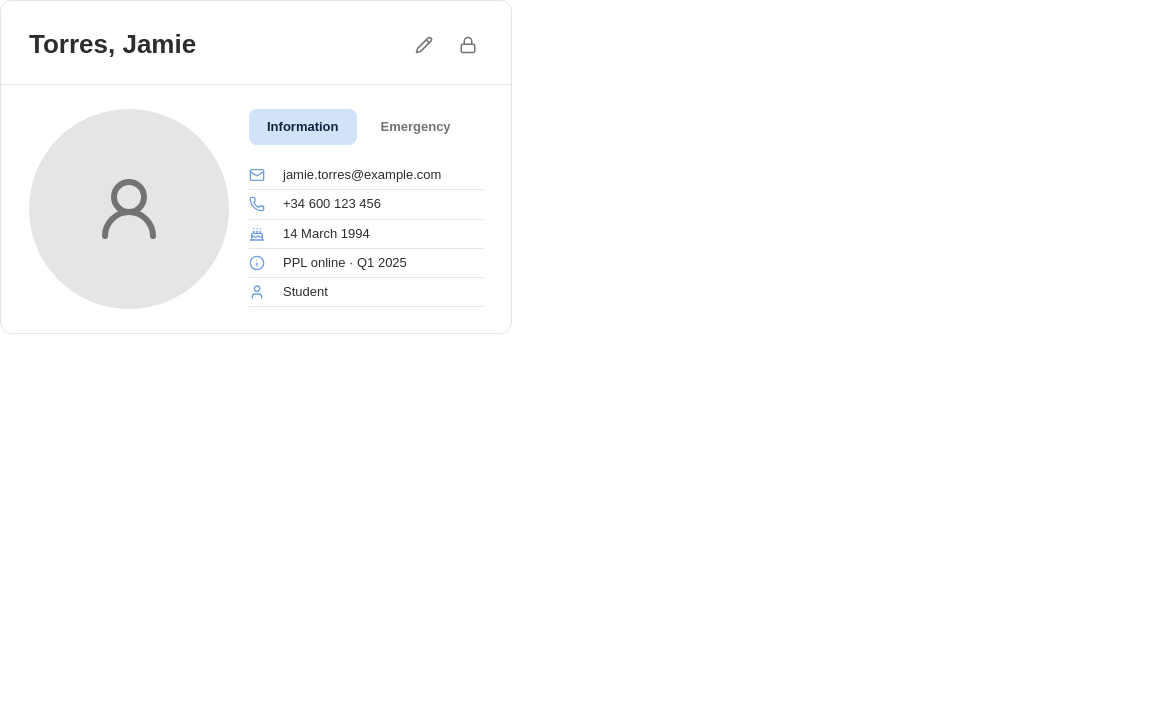
Test case: ProfileCardContainer › saves the edited contact via PUT and updates the displayed card
Click the button named "Edit profile" at (424, 44), box [409, 30, 439, 60]
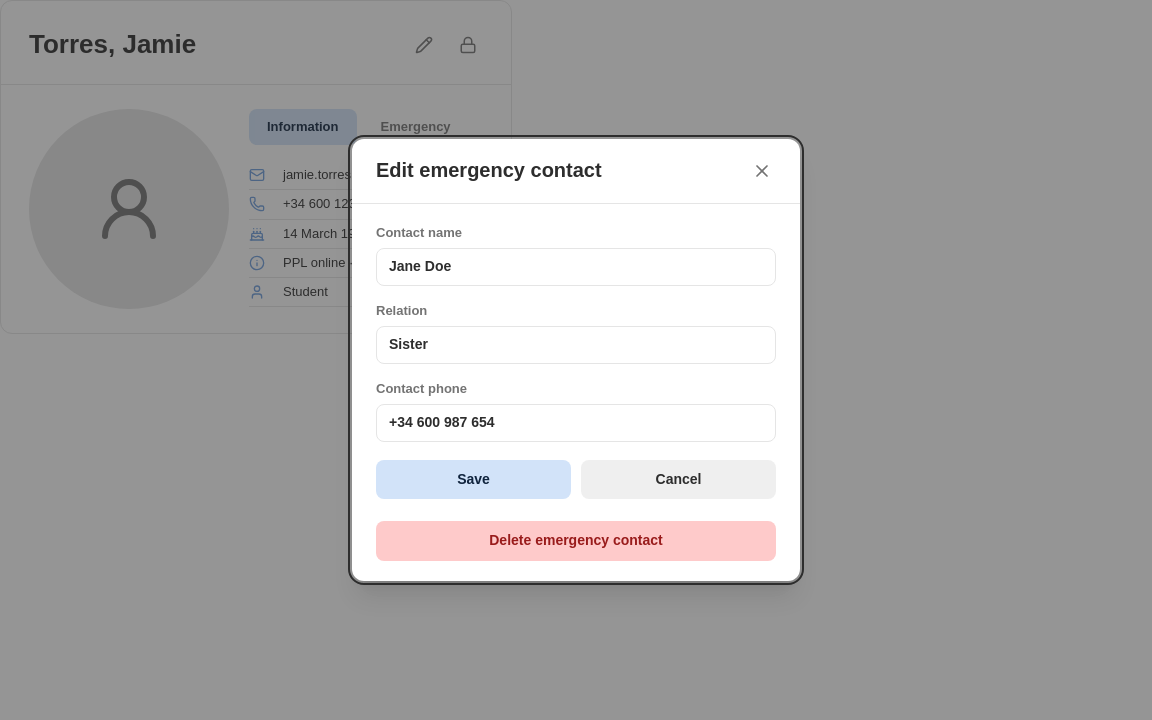
Replace the text in the field labelled "Contact name" with "John Smith" at (576, 267), box [376, 248, 776, 286]
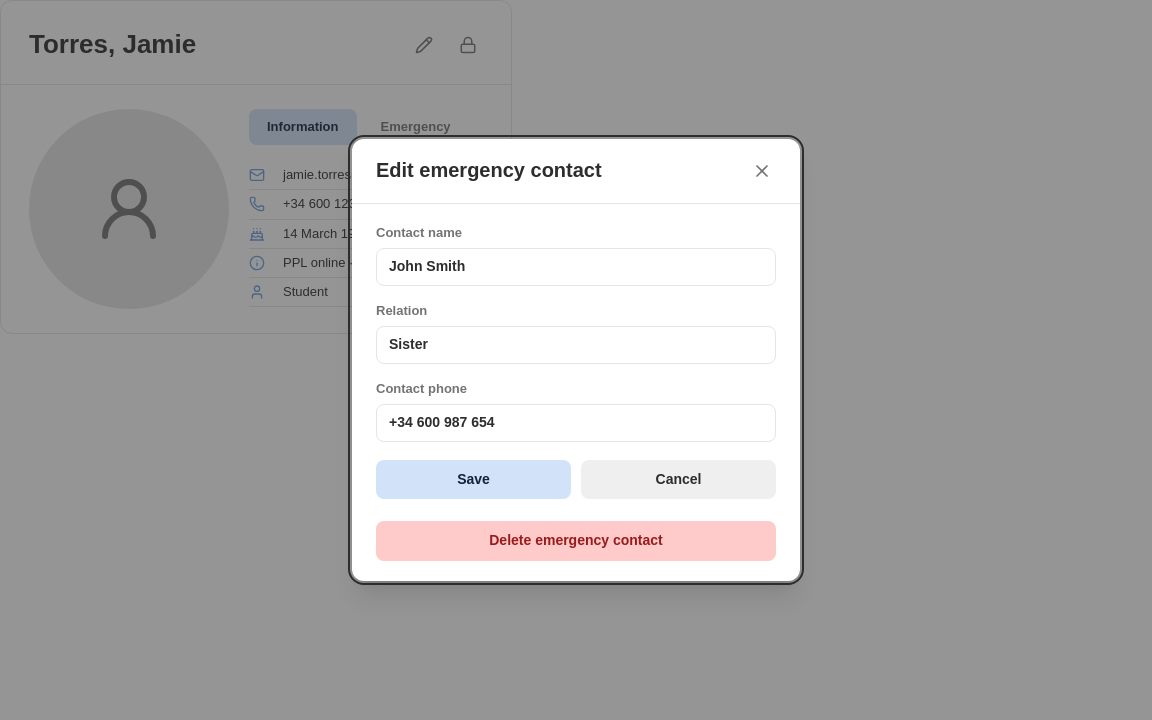
Click the button "Save" at (474, 479), box [376, 460, 571, 499]
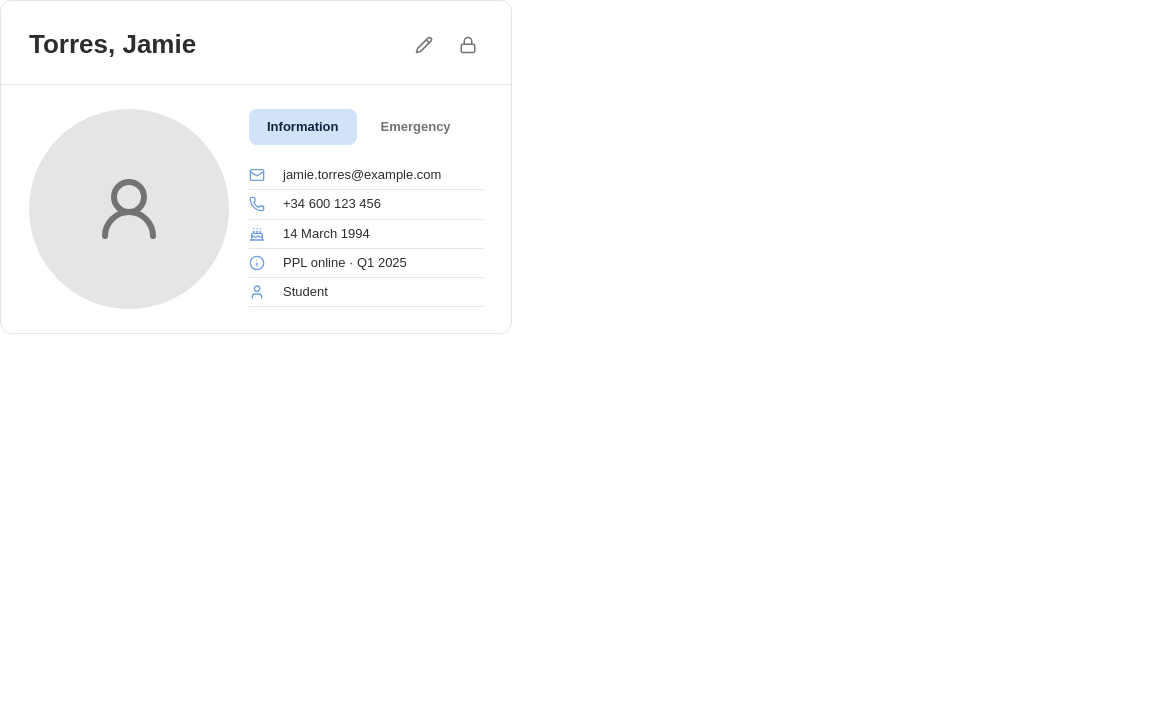
Expected: the dialog is gone
Click the tab "Emergency" at (416, 127), box [362, 109, 469, 145]
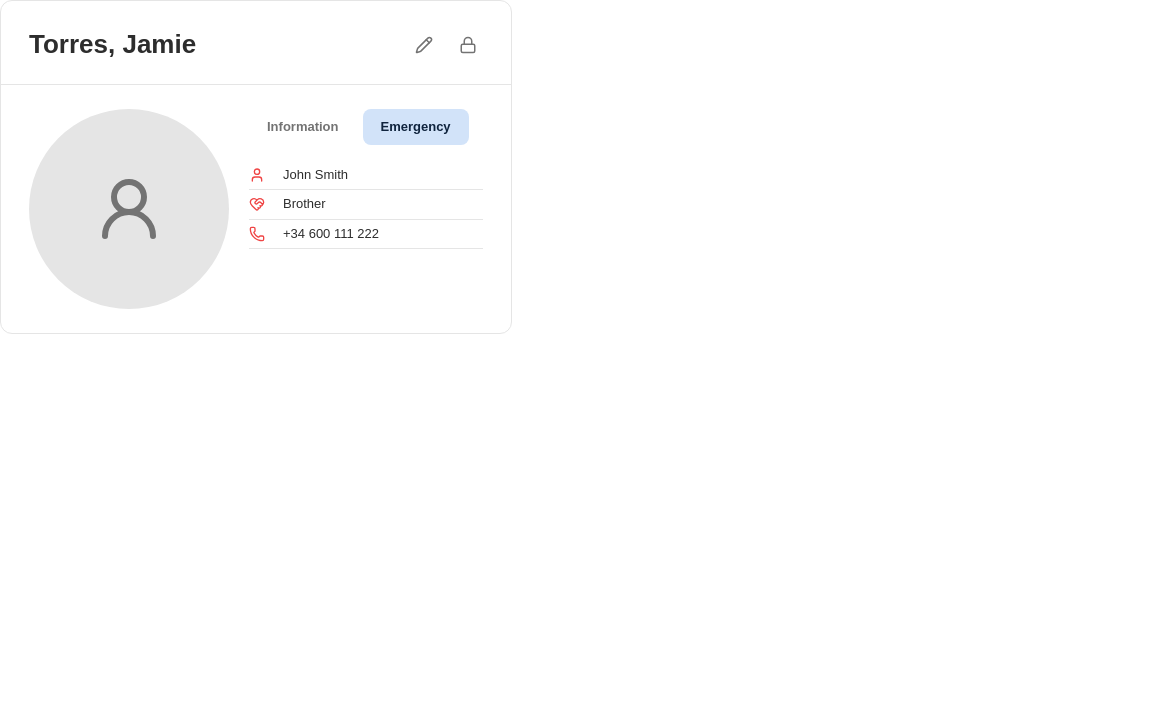
Expected: the text "John Smith" is shown, [282, 166, 367, 182]
